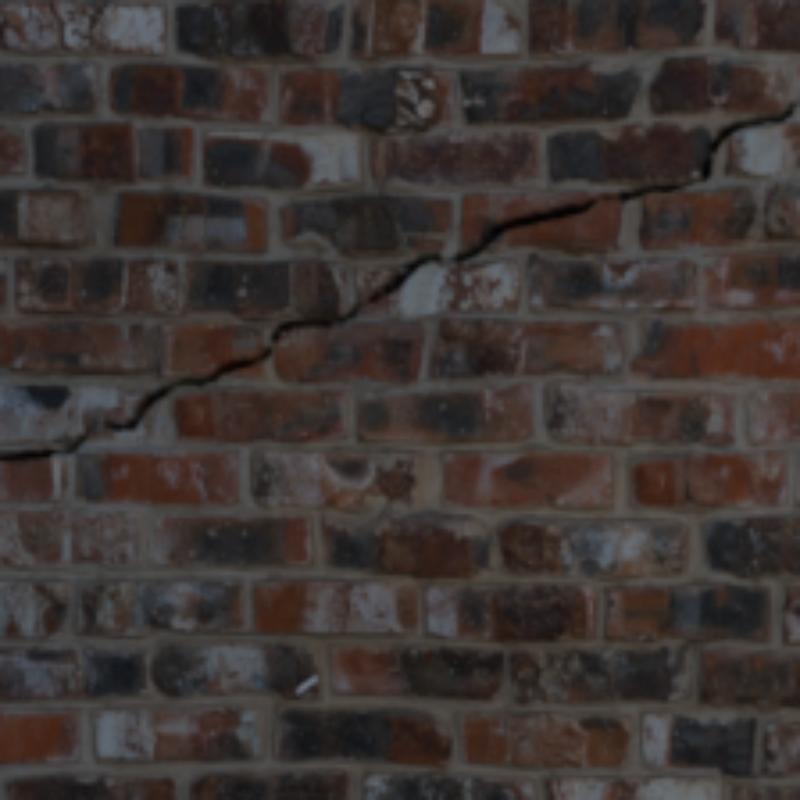pothole: (0, 100, 796, 461)
